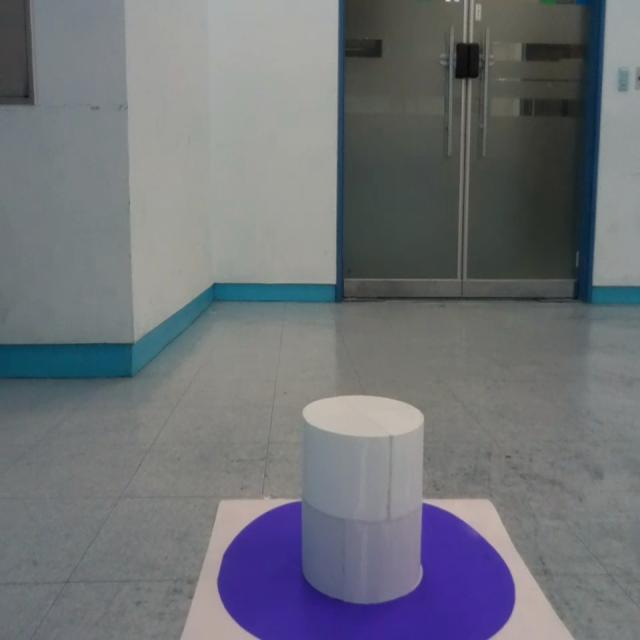cylinder: (300, 395, 426, 605)
